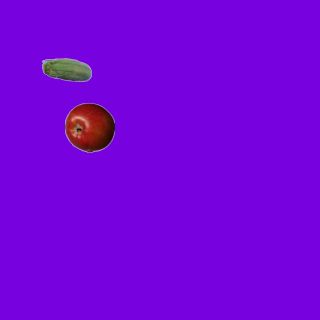Apple Braeburn: (64, 102, 114, 152)
Corn Husk: (41, 46, 91, 96)
